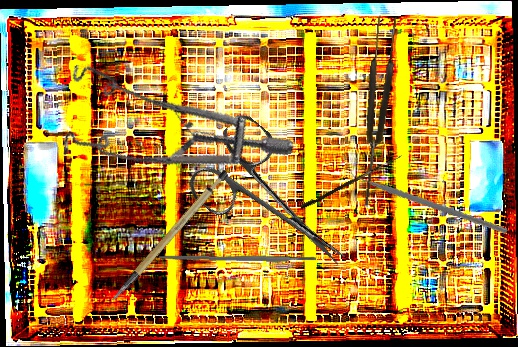Chopper: (345, 132, 509, 263)
Hook Surgical: (299, 150, 403, 212)
Iris Scissors: (178, 109, 375, 297)
Scalpel Handle: (92, 168, 244, 302), (158, 253, 317, 264)
Speculum: (39, 11, 296, 218)
Tissue Forceps: (353, 14, 400, 209)
